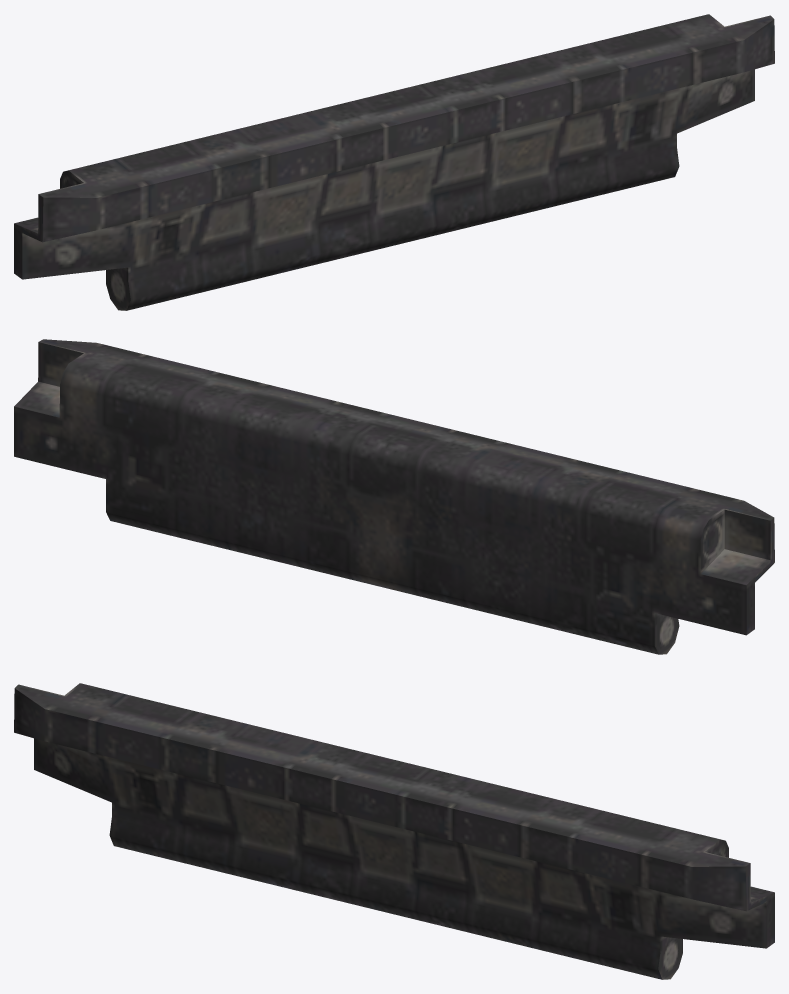
The picture shows the model from 3 angles, top to bottom: view 1: azimuth 30°, elevation 25°; view 2: azimuth 150°, elevation 25°; view 3: azimuth 330°, elevation 25°; orthographic projection.
Parts seen in each view (by area): view 1: set_0_group_0; view 2: set_0_group_0; view 3: set_0_group_0.
Part boxes in pixels (x1,y1,x2,y2): set_0_group_0: (14,14,774,310); set_0_group_0: (14,339,774,654); set_0_group_0: (14,683,774,979).
Bounding box in the file's own units: 0.9735 × 0.1884 × 0.0931.
Materials: 1 (1 with a texture image).
